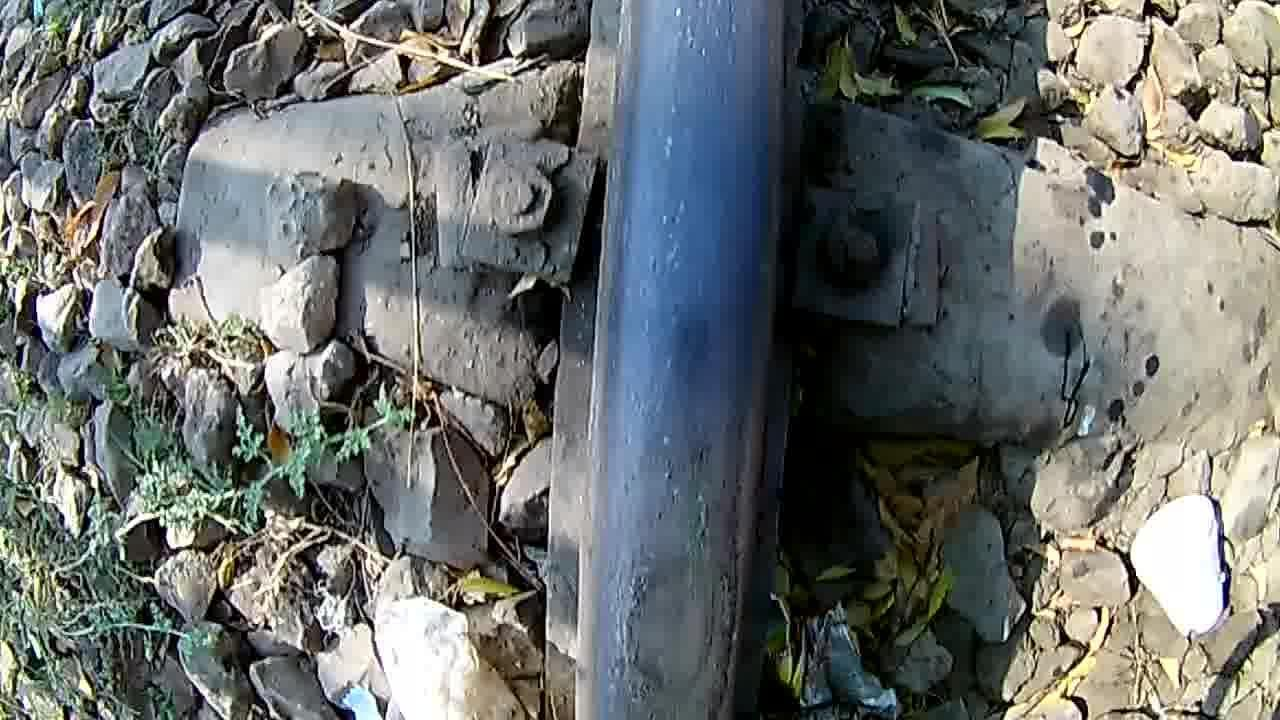crack: (602, 340, 764, 720)
